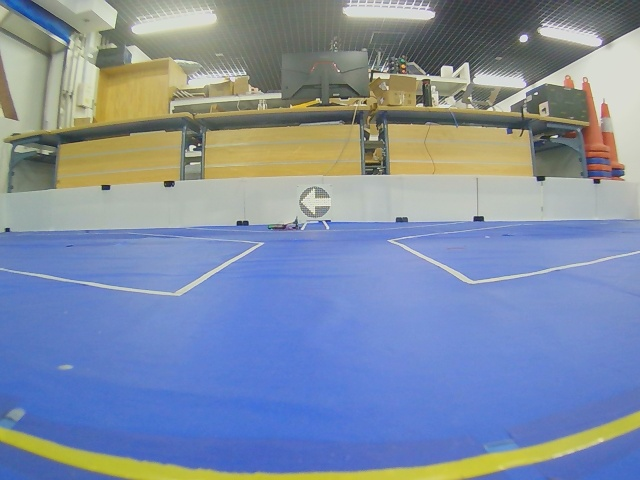left_yellow: (299, 186, 332, 219)
